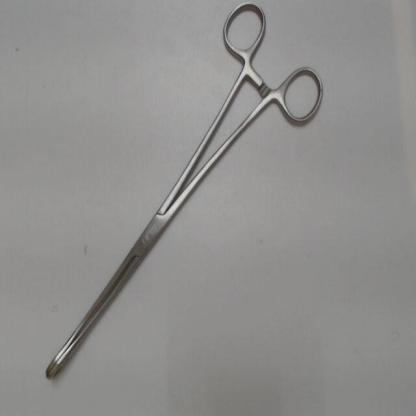Sponge Forceps: (42, 0, 330, 388)
